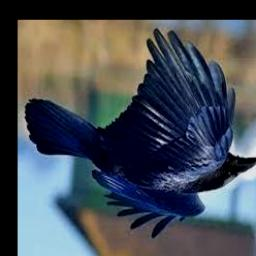Crow: (24, 28, 256, 239)
